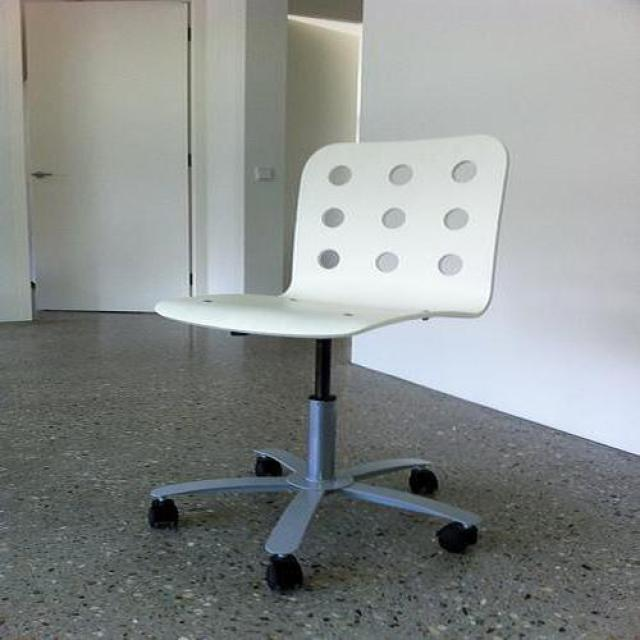swivelchair: (154, 134, 511, 593)
